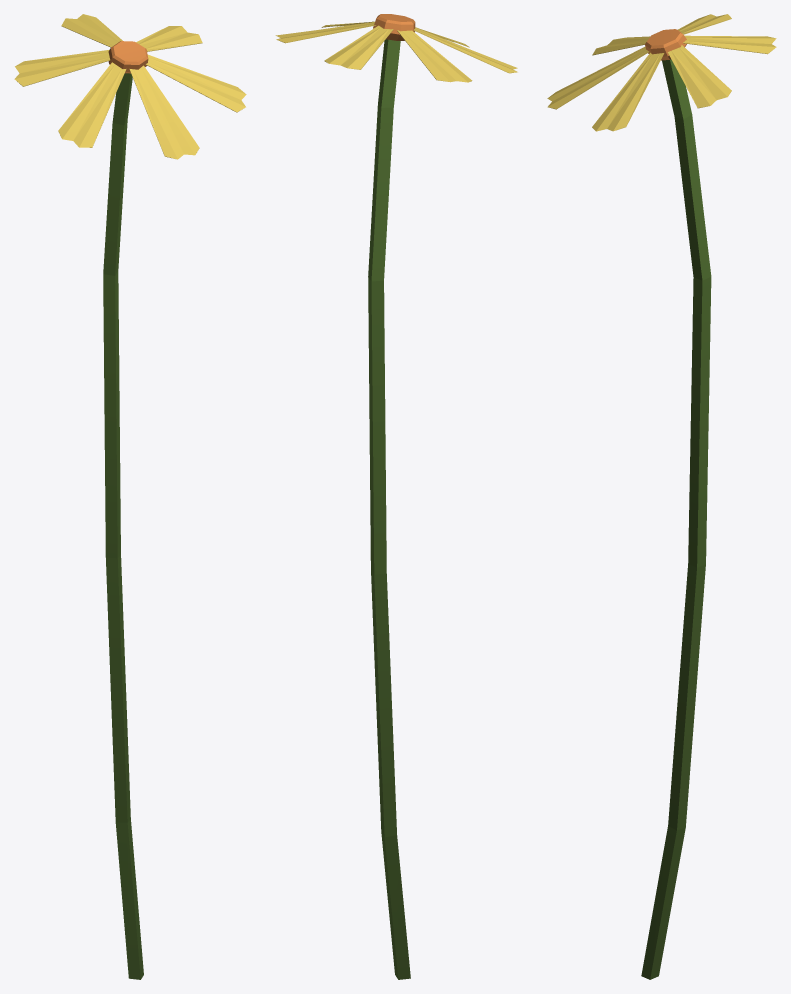
The model's file is Env_Flowers_09.obj.
The picture shows the model from 3 angles, left to right: view 1: azimuth 30°, elevation 25°; view 2: azimuth 150°, elevation 25°; view 3: azimuth 270°, elevation 25°; orthographic projection. The views are drawn at different scales.
Parts seen in each view (by area): view 1: Env_Flowers_09; view 2: Env_Flowers_09; view 3: Env_Flowers_09.
Part boxes in pixels (x1,y1,x2,y2): Env_Flowers_09: [14, 14, 246, 979]; Env_Flowers_09: [275, 14, 517, 979]; Env_Flowers_09: [547, 14, 776, 979].
Bounding box in the file's own units: 0.1215 × 0.5822 × 0.1283.
1 material, 1 textured.
